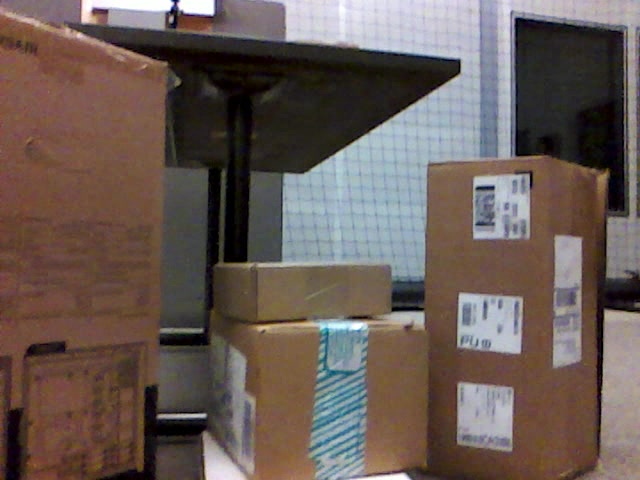box: (1, 14, 167, 480), (428, 161, 602, 480), (209, 310, 430, 471), (211, 262, 393, 318)
